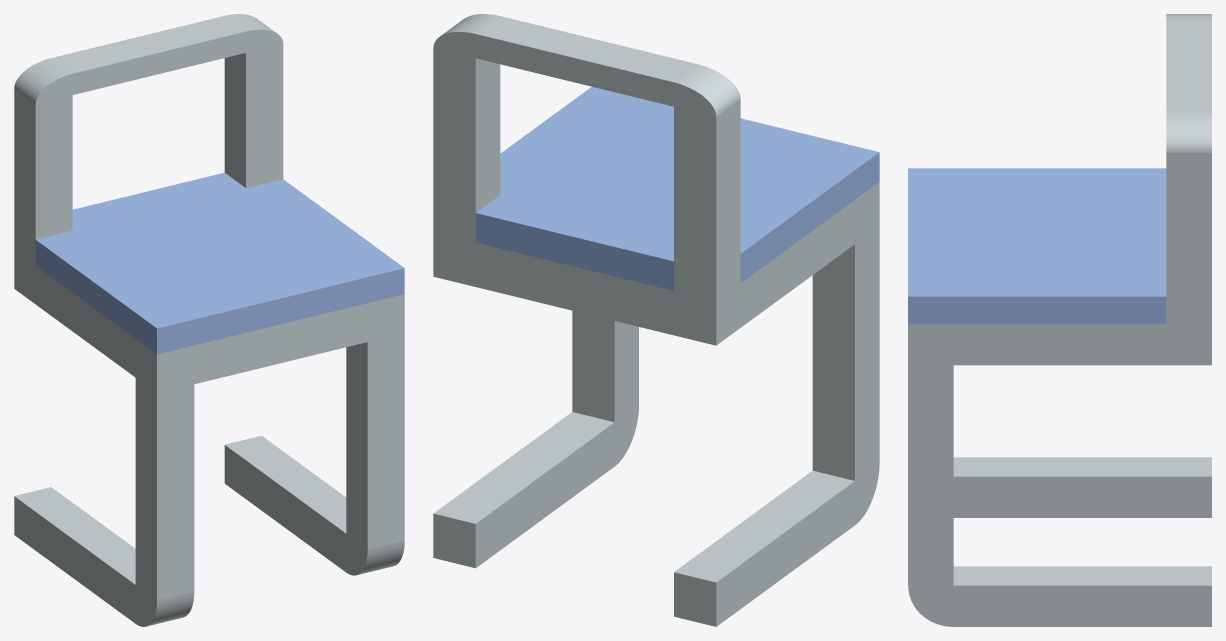
File: chairModernFrameCushion_low_back.glb
3 renders of one model, left to right at view 1: azimuth 30°, elevation 25°; view 2: azimuth 150°, elevation 25°; view 3: azimuth 270°, elevation 25°, orthographic. The views are drawn at different scales.
Parts seen in each view (by area): view 1: chairModernFrameCushion(Clone); view 2: chairModernFrameCushion(Clone); view 3: chairModernFrameCushion(Clone).
Boxes of the visible parts, <box> form: chairModernFrameCushion(Clone): <box>14,14,404,626</box>; chairModernFrameCushion(Clone): <box>433,14,879,626</box>; chairModernFrameCushion(Clone): <box>908,14,1211,626</box>.
Bounding box in the file's own units: 0.2 × 0.361 × 0.2.
